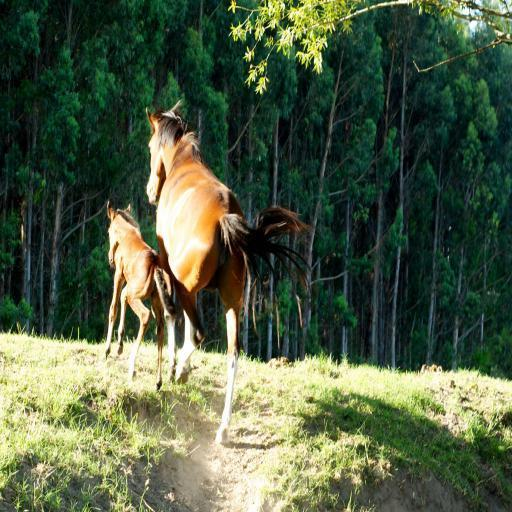horse: (142, 95, 318, 445), (104, 202, 176, 404)
